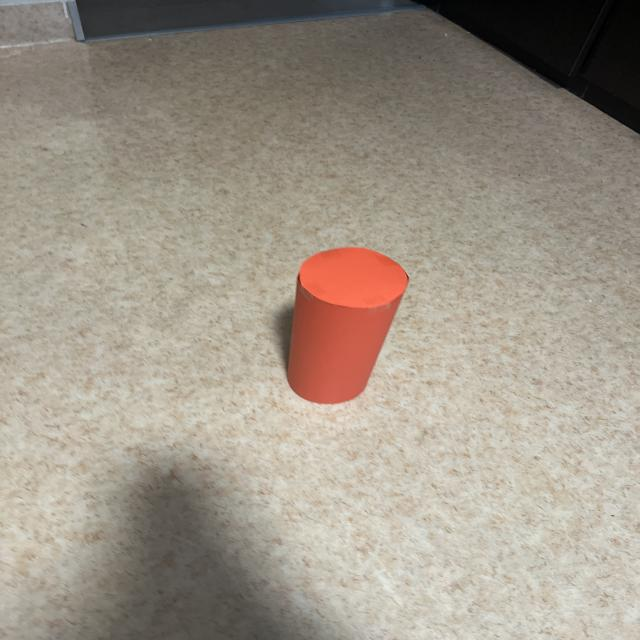przeszkoda: (287, 247, 408, 403)
